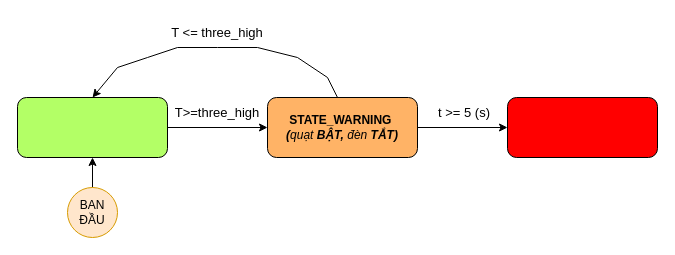
Some shapes in this 675 by 255 pixel diagram are drawn without their labels. The centre of each missing label's shape, as x and y in pixels:
"STATE_EMERGENCY" belongs at pixel 582 127.
"STATE_SAFE ( quạt TẮT, đèn BẬT)" belongs at pixel 92 127.
